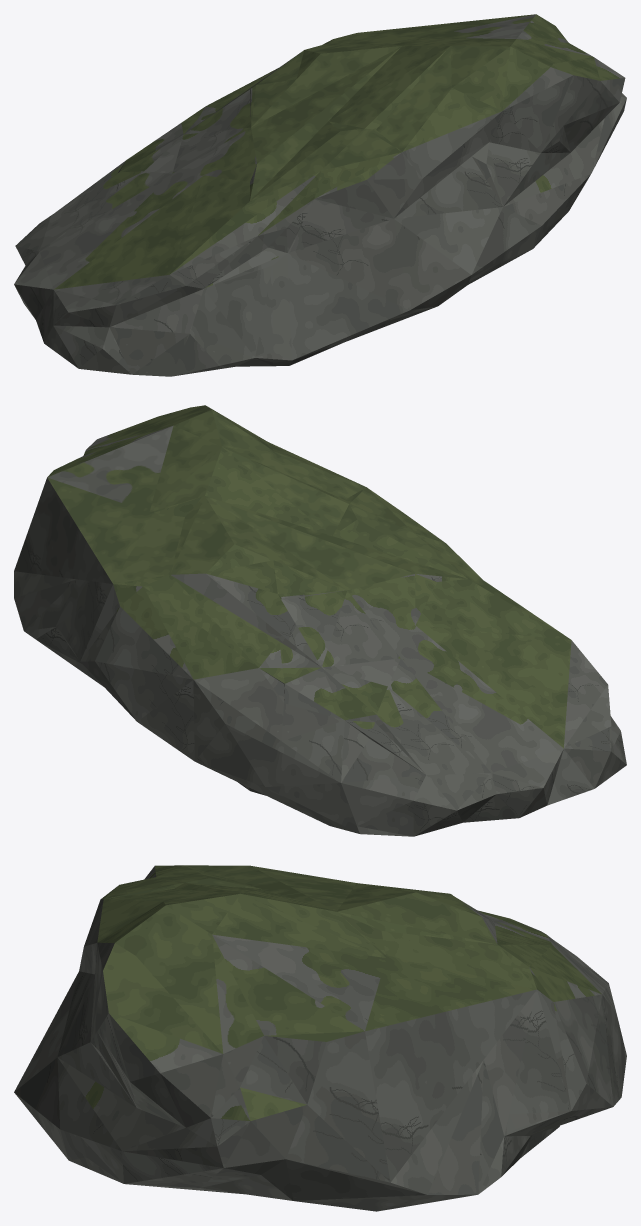
File: redwood_slab2_v1.fbx
The picture shows the model from 3 angles, top to bottom: view 1: azimuth 30°, elevation 25°; view 2: azimuth 150°, elevation 25°; view 3: azimuth 270°, elevation 25°; orthographic projection. The views are drawn at different scales.
Parts seen in each view (by area): view 1: redwood_slab2_v1_s2_lod0, redwood_slab2_v1_s0_lod0, redwood_slab2_v1_s3_lod0, redwood_slab2_v1_s4_lod0, redwood_slab2_v1_s5_lod0, redwood_slab2_v1_s1_lod0; view 2: redwood_slab2_v1_s2_lod0, redwood_slab2_v1_s1_lod0, redwood_slab2_v1_s4_lod0, redwood_slab2_v1_s3_lod0, redwood_slab2_v1_s5_lod0, redwood_slab2_v1_s0_lod0; view 3: redwood_slab2_v1_s5_lod0, redwood_slab2_v1_s1_lod0, redwood_slab2_v1_s3_lod0, redwood_slab2_v1_s0_lod0, redwood_slab2_v1_s4_lod0.
Boxes of the visible parts, <box> form: redwood_slab2_v1_s2_lod0: <box>14,171,273,376</box>; redwood_slab2_v1_s0_lod0: <box>272,126,541,366</box>; redwood_slab2_v1_s3_lod0: <box>317,37,568,244</box>; redwood_slab2_v1_s4_lod0: <box>104,79,331,189</box>; redwood_slab2_v1_s5_lod0: <box>423,14,626,231</box>; redwood_slab2_v1_s1_lod0: <box>182,25,431,122</box>; redwood_slab2_v1_s2_lod0: <box>357,563,626,836</box>; redwood_slab2_v1_s1_lod0: <box>60,512,284,791</box>; redwood_slab2_v1_s4_lod0: <box>238,527,447,833</box>; redwood_slab2_v1_s3_lod0: <box>149,405,359,547</box>; redwood_slab2_v1_s5_lod0: <box>14,407,193,666</box>; redwood_slab2_v1_s0_lod0: <box>317,464,480,577</box>; redwood_slab2_v1_s5_lod0: <box>81,934,516,1211</box>; redwood_slab2_v1_s1_lod0: <box>372,889,626,1168</box>; redwood_slab2_v1_s3_lod0: <box>60,878,386,1170</box>; redwood_slab2_v1_s0_lod0: <box>14,869,218,1162</box>; redwood_slab2_v1_s4_lod0: <box>178,865,612,1131</box>.
Size of what is drawn, in the model's own units: 827 by 329 by 530.
